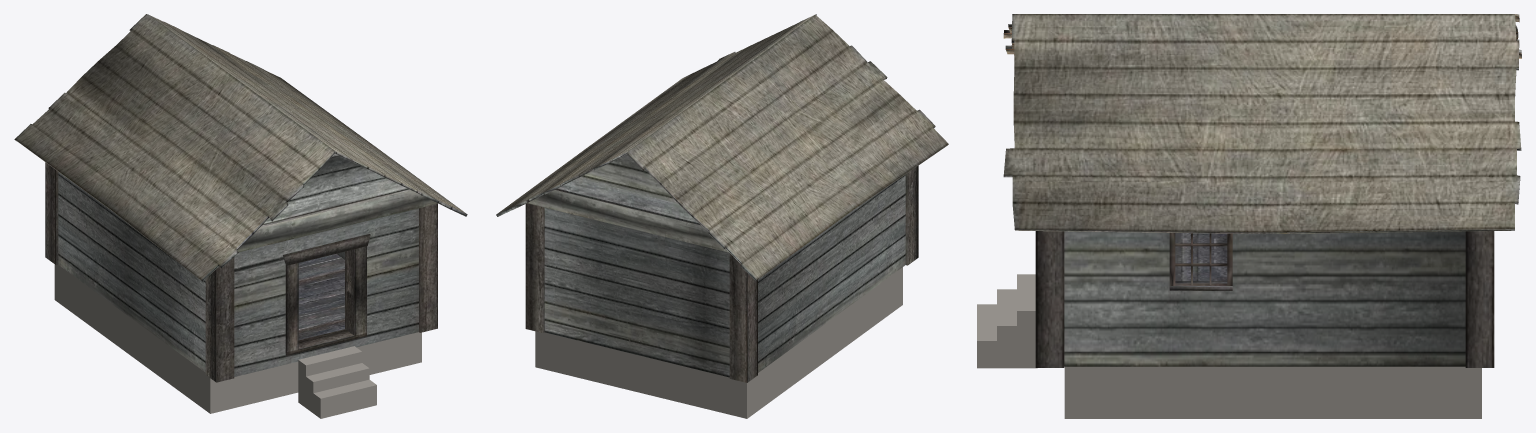
The model's file is old-hut.zfix-v1.lod0.glb.
3 renders of one model, left to right at view 1: azimuth 30°, elevation 25°; view 2: azimuth 150°, elevation 25°; view 3: azimuth 270°, elevation 25°, orthographic. The views are drawn at different scales.
Parts seen in each view (by area): view 1: hut_T_hUT_0, Walkable floors and stairs; view 2: hut_T_hUT_0, Walkable floors and stairs; view 3: hut_T_hUT_0, Walkable floors and stairs.
Boxes of the visible parts, <box> form: hut_T_hUT_0: <box>14,14,467,382</box>; Walkable floors and stairs: <box>54,264,421,418</box>; hut_T_hUT_0: <box>496,14,948,382</box>; Walkable floors and stairs: <box>535,267,902,418</box>; hut_T_hUT_0: <box>1003,14,1521,367</box>; Walkable floors and stairs: <box>977,274,1481,418</box>.
Size of the model in its own units: 6.25 by 5.58 by 8.2.
2 materials, 1 textured.
